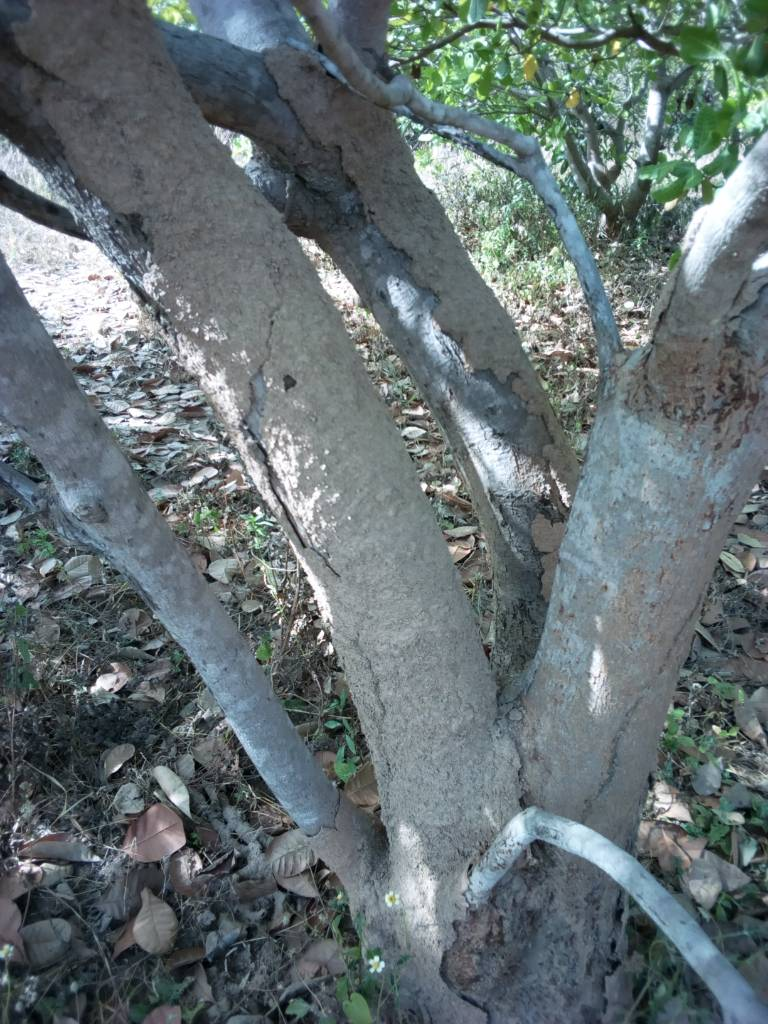Termites: (147, 103, 397, 480), (325, 483, 504, 782), (36, 10, 172, 192), (436, 242, 518, 397)
